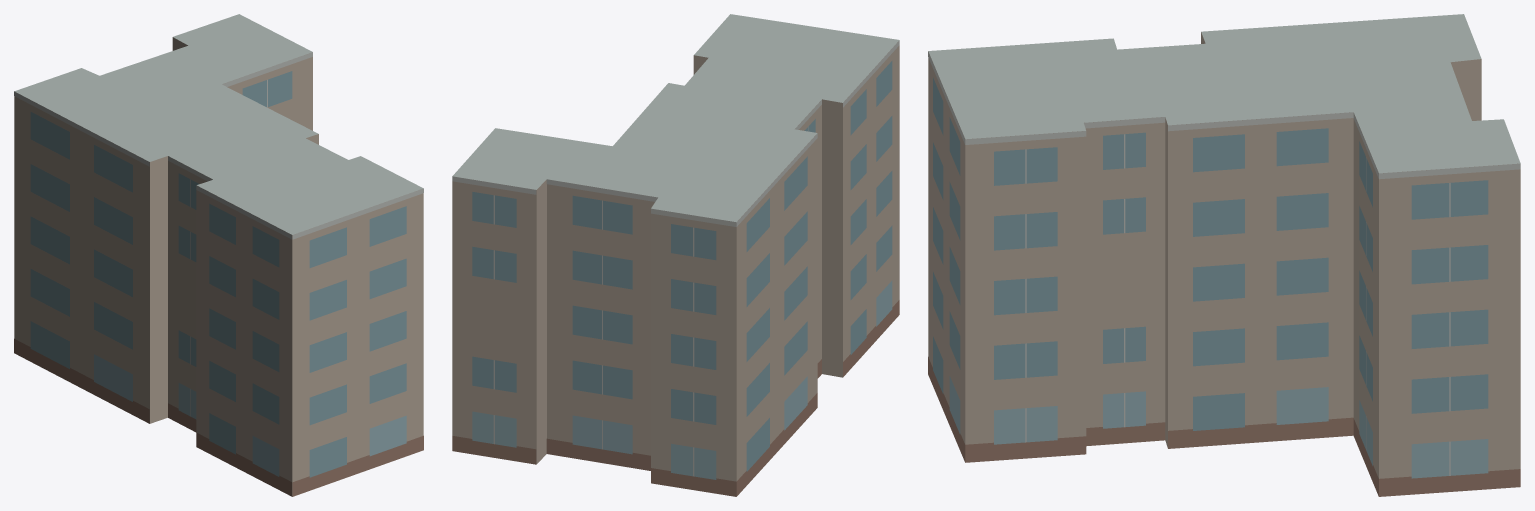
File: survey-upis-32760593.glb
The picture shows the model from 3 angles, left to right: view 1: azimuth 30°, elevation 25°; view 2: azimuth 150°, elevation 25°; view 3: azimuth 270°, elevation 25°; orthographic projection. The views are drawn at different scales.
Visible parts, largest first — view 1: survey-upis-32760593.tmp; view 2: survey-upis-32760593.tmp; view 3: survey-upis-32760593.tmp.
Part boxes in pixels (x1,y1,x2,y2): survey-upis-32760593.tmp: (14,14,423,496); survey-upis-32760593.tmp: (452,14,899,496); survey-upis-32760593.tmp: (928,14,1520,496).
Bounding box in the file's own units: 14.27 × 13.5 × 22.42.
